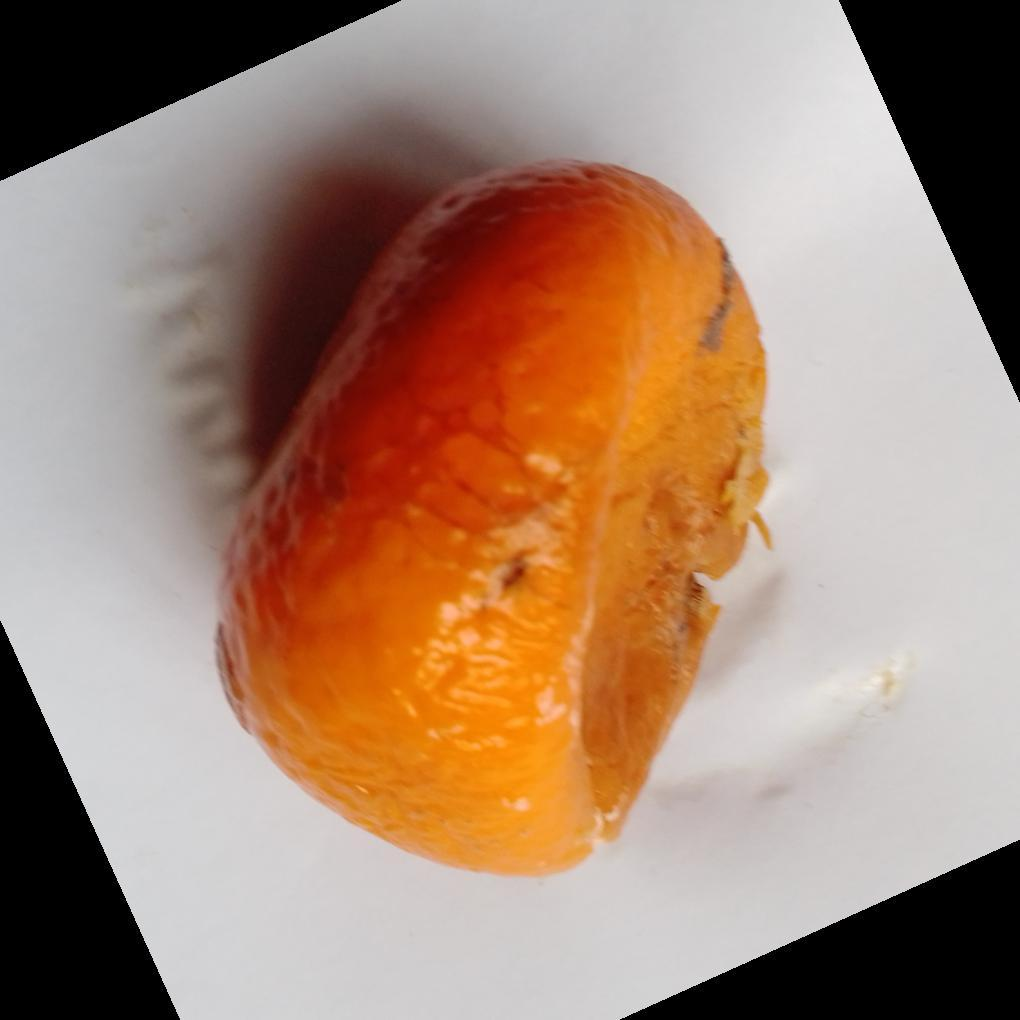FreshOrange: (213, 161, 770, 882)
